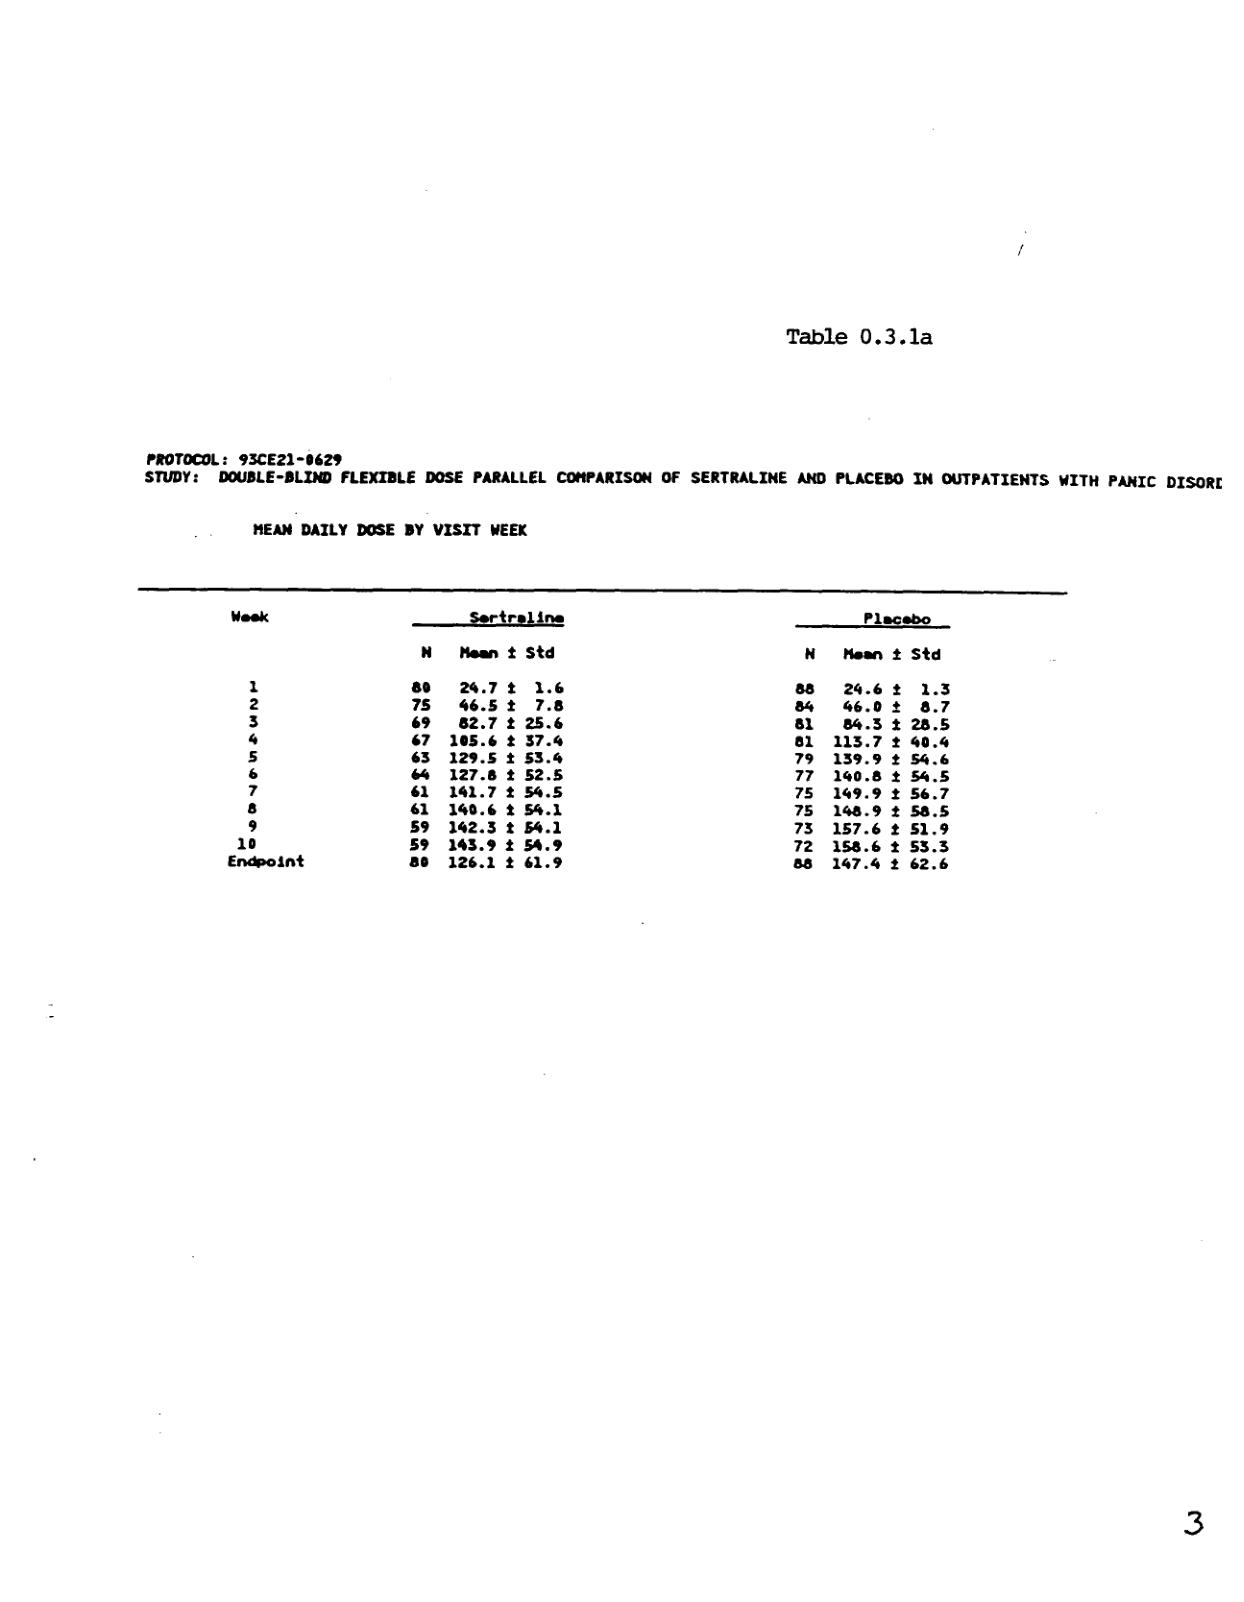partial_lined_merged_cells: (130, 586, 1069, 874)
